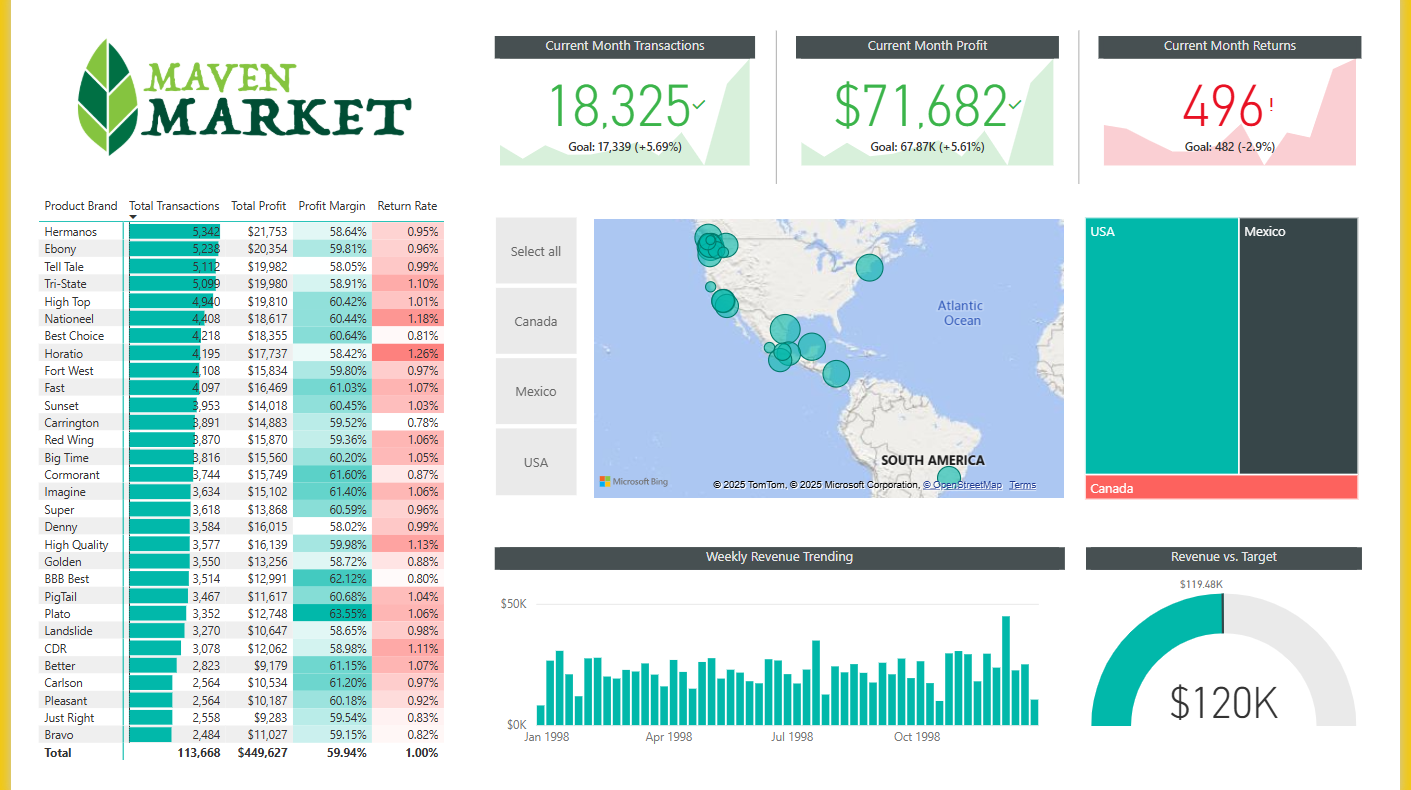

Layout of this report page (visuals, bound fields, positions):
{"tool":"powerbi","page":{"name":"Topline Performance","canvas":[1280,720],"ordinal":0},"visuals":[{"type":"image","box":[40,7.5,346.6,132.7],"z":0},{"type":"pivotTable","fields":{"Values":["Transaction_Data.Total Transactions","Transaction_Data.Total Profit","Transaction_Data.Profit Margin","Return_Data.Return Rate"],"Rows":["Products.product_brand"]},"box":[20.6,161.3,401.5,536],"z":1000},{"type":"kpi","title":"Current Month Transactions","fields":{"TrendLine":["Calendar.Start of Month"],"Goal":["Transaction_Data.Last Month Transactions"],"Indicator":["Transaction_Data.Total Transactions"]},"box":[445.9,19,240.2,124.7],"z":2000},{"type":"kpi","title":"Current Month Profit","fields":{"TrendLine":["Calendar.Start of Month"],"Goal":["Transaction_Data.Last Month Profit"],"Indicator":["Transaction_Data.Total Profit"]},"box":[723.3,19,242.5,124.7],"z":3000},{"type":"kpi","title":"Current Month Returns","fields":{"TrendLine":["Calendar.Start of Month"],"Goal":["Return_Data.Last Month Returns"],"Indicator":["Return_Data.Total Returns"]},"box":[1003,19,242.5,124.7],"z":4000},{"type":"map","fields":{"Category":["Stores.store_city"],"Size":["Transaction_Data.Total Transactions"]},"box":[532.8,182.5,442.7,266.5],"z":5000},{"type":"slicer","fields":{"Values":["Stores.store_country"]},"box":[420.5,178.9,124.7,270],"z":6000},{"type":"columnChart","title":"Weekly Revenue Trending","fields":{"Category":["Calendar.Start of Week"],"Y":["Transaction_Data.Total Revenue"]},"box":[445.9,490,525.3,192.2],"z":7000},{"type":"gauge","title":"Revenue vs. Target","fields":{"Y":["Transaction_Data.Total Revenue"],"TargetValue":["Transaction_Data.Revenue Target"]},"box":[991.1,490,254.4,171.6],"z":8000},{"type":"basicShape","box":[671.7,2.9,67.5,161.3],"z":9000},{"type":"basicShape","box":[950.3,2.9,67.5,161.3],"z":10000},{"type":"treemap","fields":{"Group":["Stores.store_country","Stores.store_state","Stores.store_city"],"Values":["Transaction_Data.Total Transactions"]},"box":[985.8,181.4,261.9,270],"z":11000}]}

Visuals, with their boxes in screenshot pixels (x1, y1, x2, y2), scaled from the page's 1280x720 canvas onto the 1411x790 screenshot:
image: x1=44, y1=8, x2=426, y2=154
pivotTable - Transaction_Data.Total Transactions x Transaction_Data.Total Profit: x1=23, y1=177, x2=465, y2=765
"Current Month Transactions" kpi: x1=492, y1=21, x2=756, y2=158
"Current Month Profit" kpi: x1=797, y1=21, x2=1065, y2=158
"Current Month Returns" kpi: x1=1106, y1=21, x2=1373, y2=158
map - Stores.store_city x Transaction_Data.Total Transactions: x1=587, y1=200, x2=1075, y2=493
slicer - Stores.store_country: x1=464, y1=196, x2=601, y2=493
"Weekly Revenue Trending" columnChart: x1=492, y1=538, x2=1071, y2=749
"Revenue vs. Target" gauge: x1=1093, y1=538, x2=1373, y2=726
basicShape: x1=740, y1=3, x2=815, y2=180
basicShape: x1=1048, y1=3, x2=1122, y2=180
treemap - Stores.store_country x Stores.store_state: x1=1087, y1=199, x2=1375, y2=495
